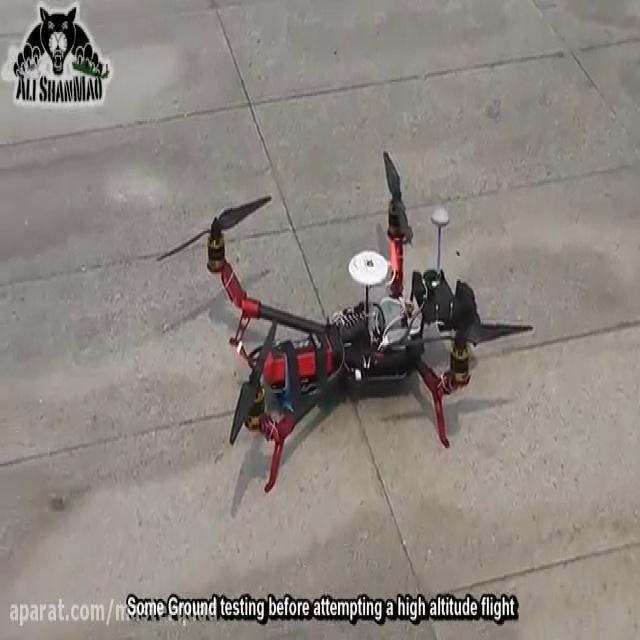drone: (152, 146, 538, 501)
